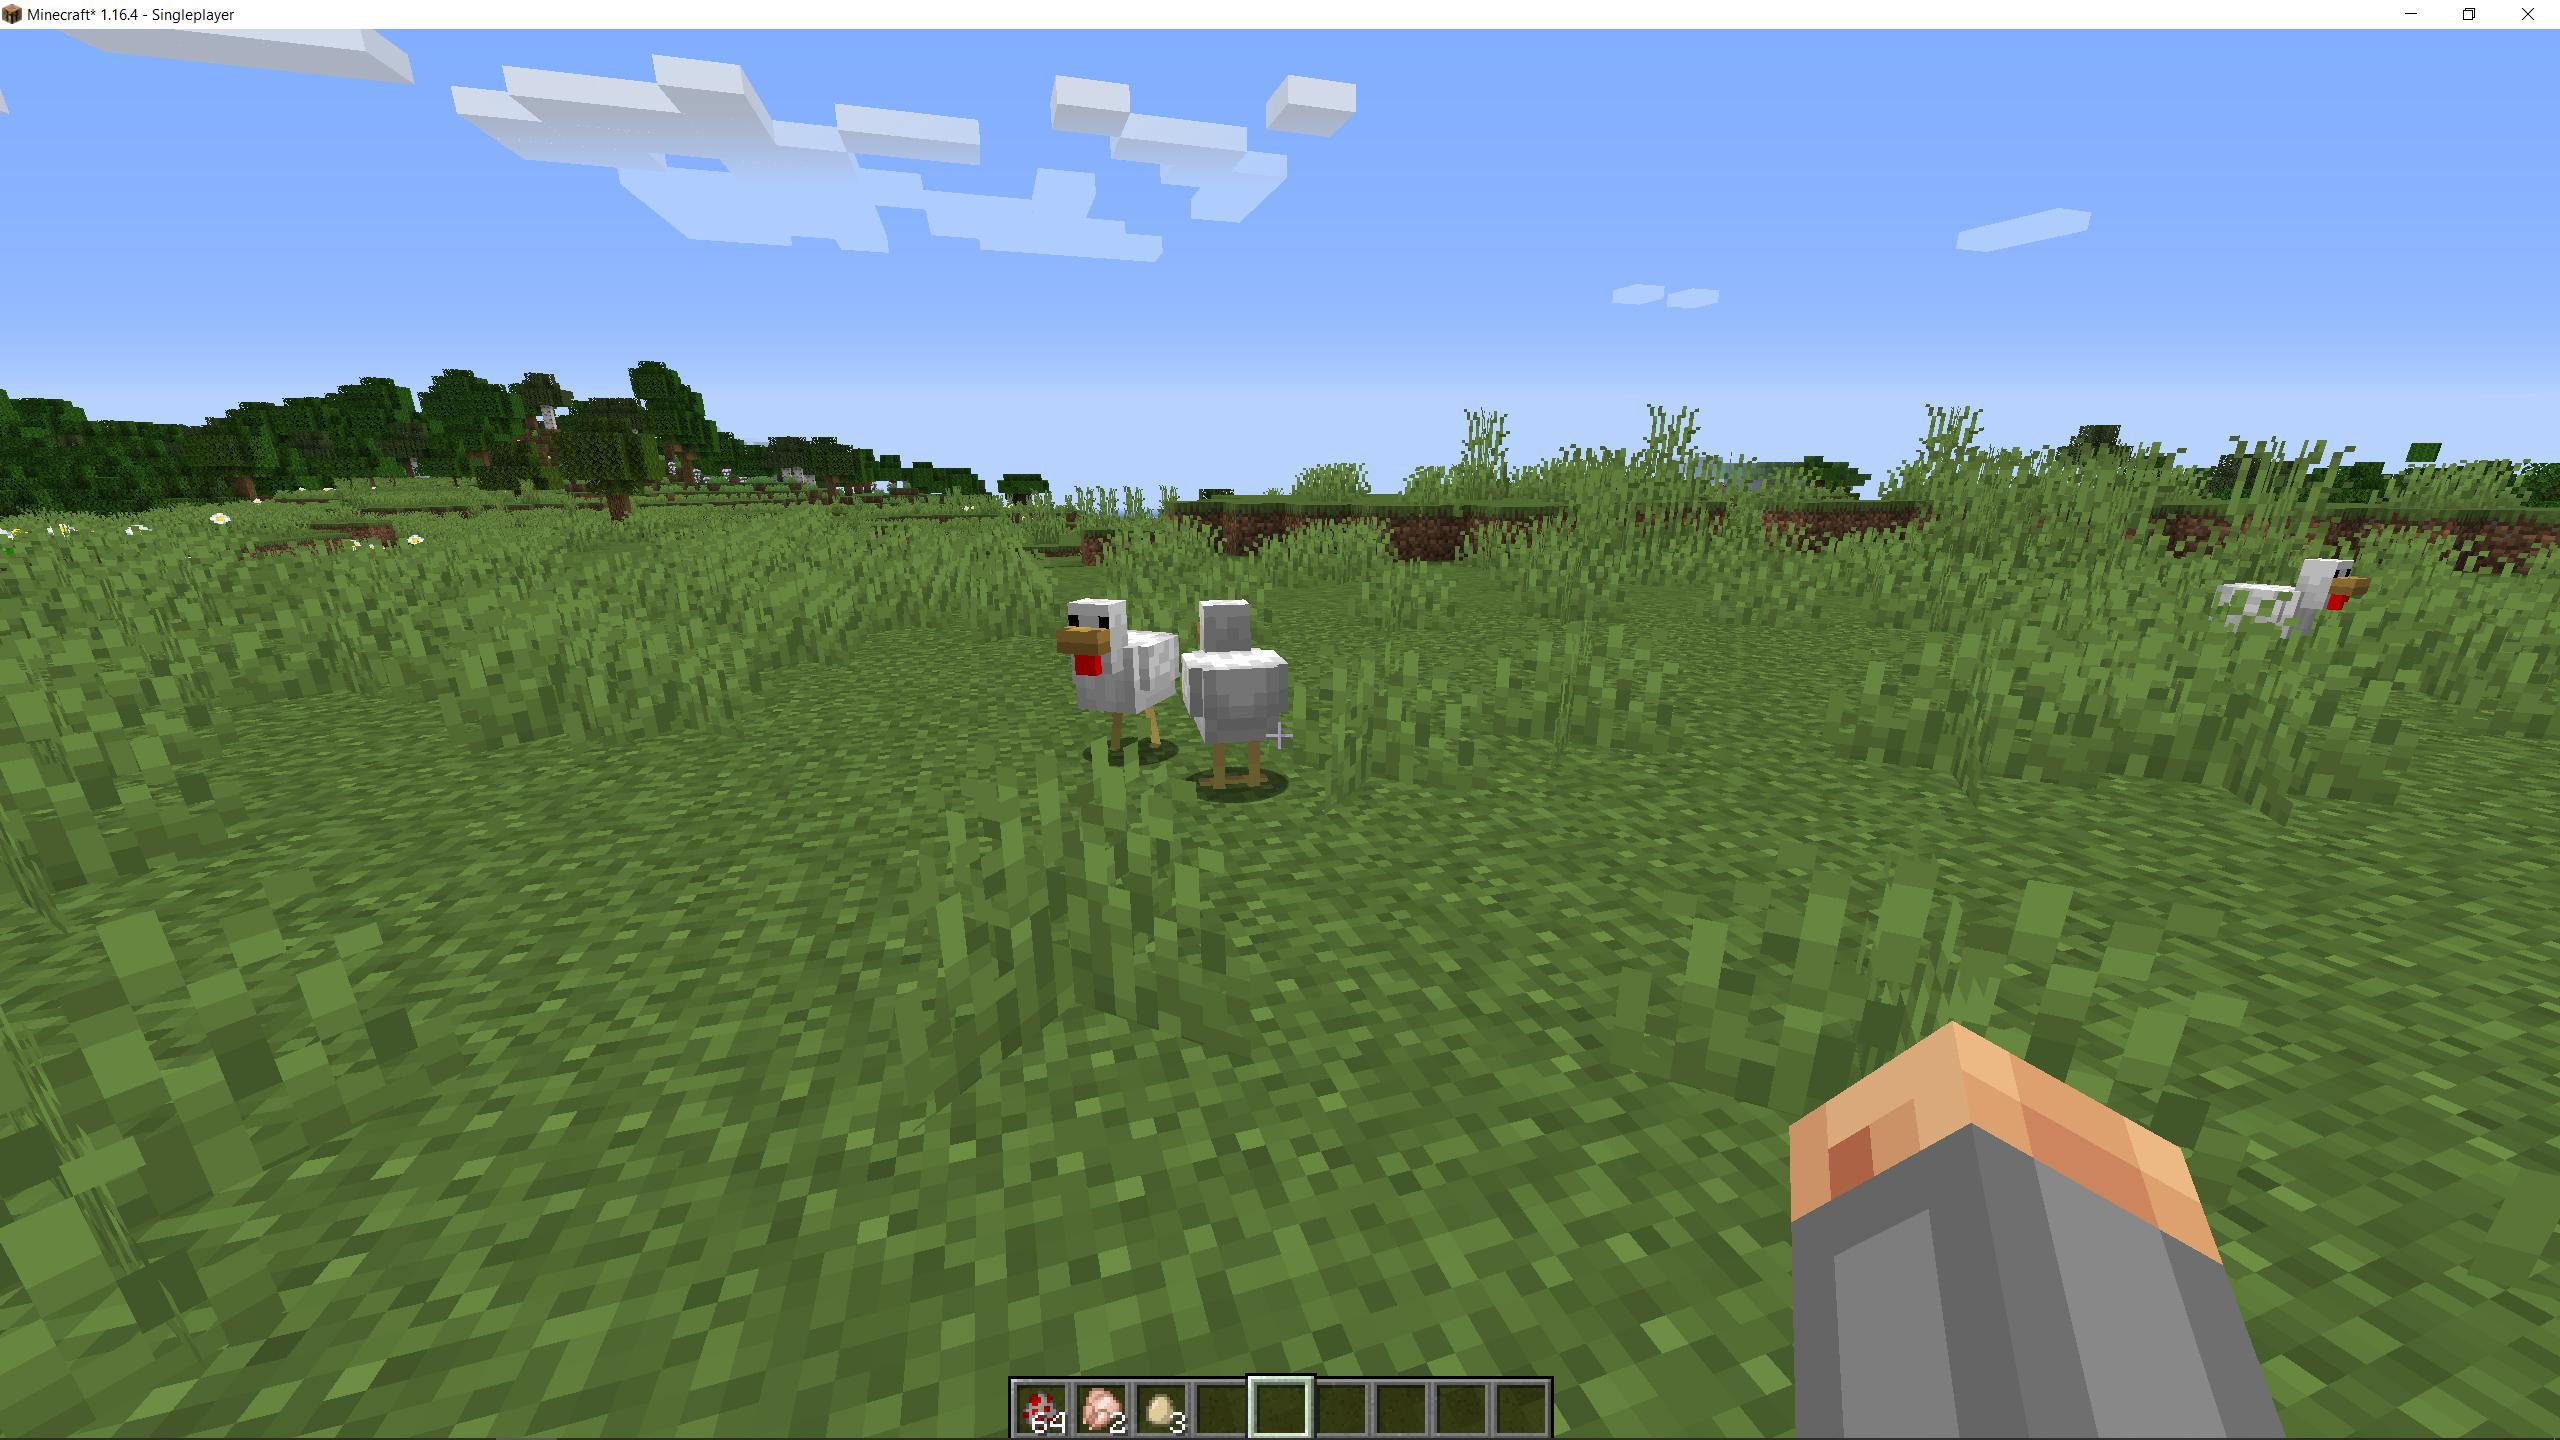chicken: (2198, 540, 2367, 693), (1057, 591, 1175, 763), (1190, 594, 1291, 791)
